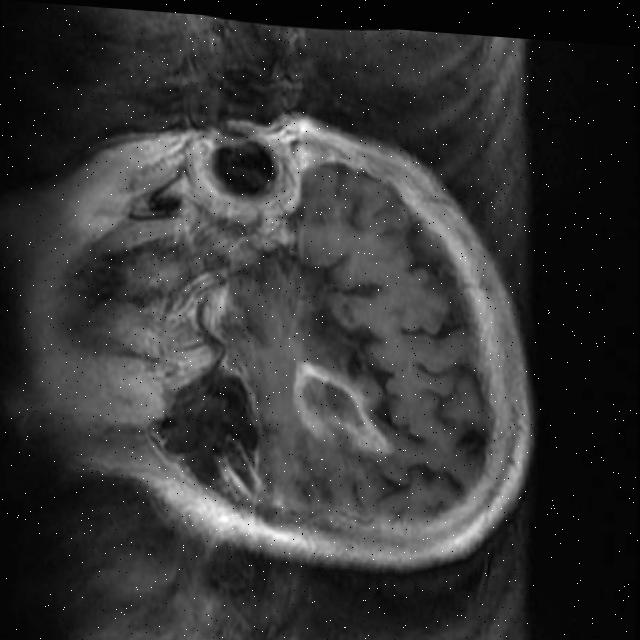Glioma: (290, 359, 397, 455)
